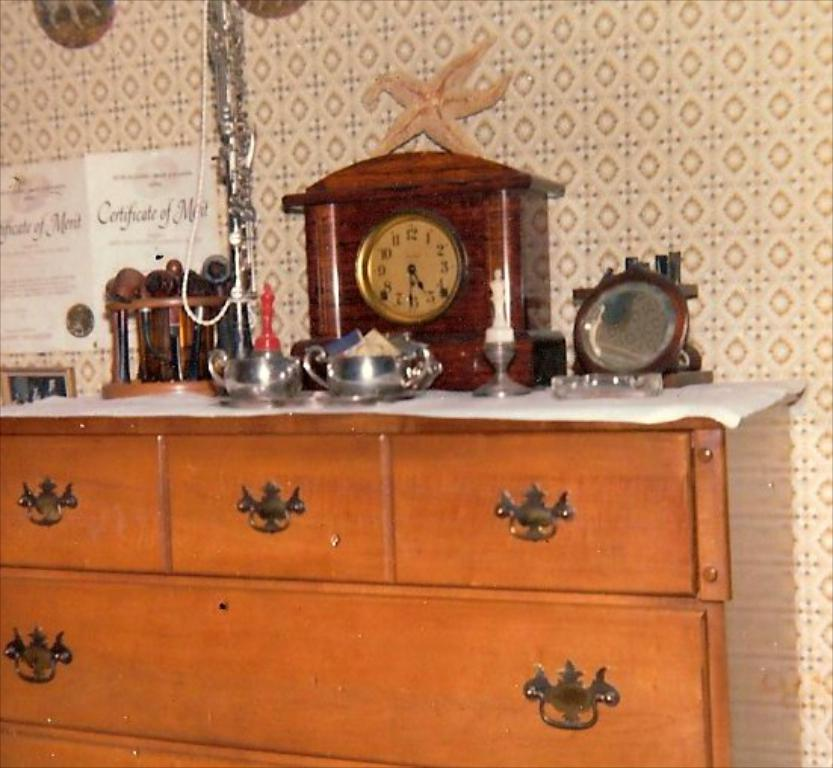cabinet door: (6, 588, 710, 750), (394, 447, 694, 580), (164, 451, 387, 573), (5, 446, 166, 562)
handle: (518, 671, 614, 743), (495, 496, 580, 549), (237, 486, 304, 543), (7, 628, 61, 698), (20, 486, 70, 529)
